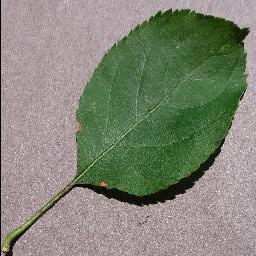Apple_Black_Rot: (74, 120, 82, 140), (98, 180, 108, 189)
